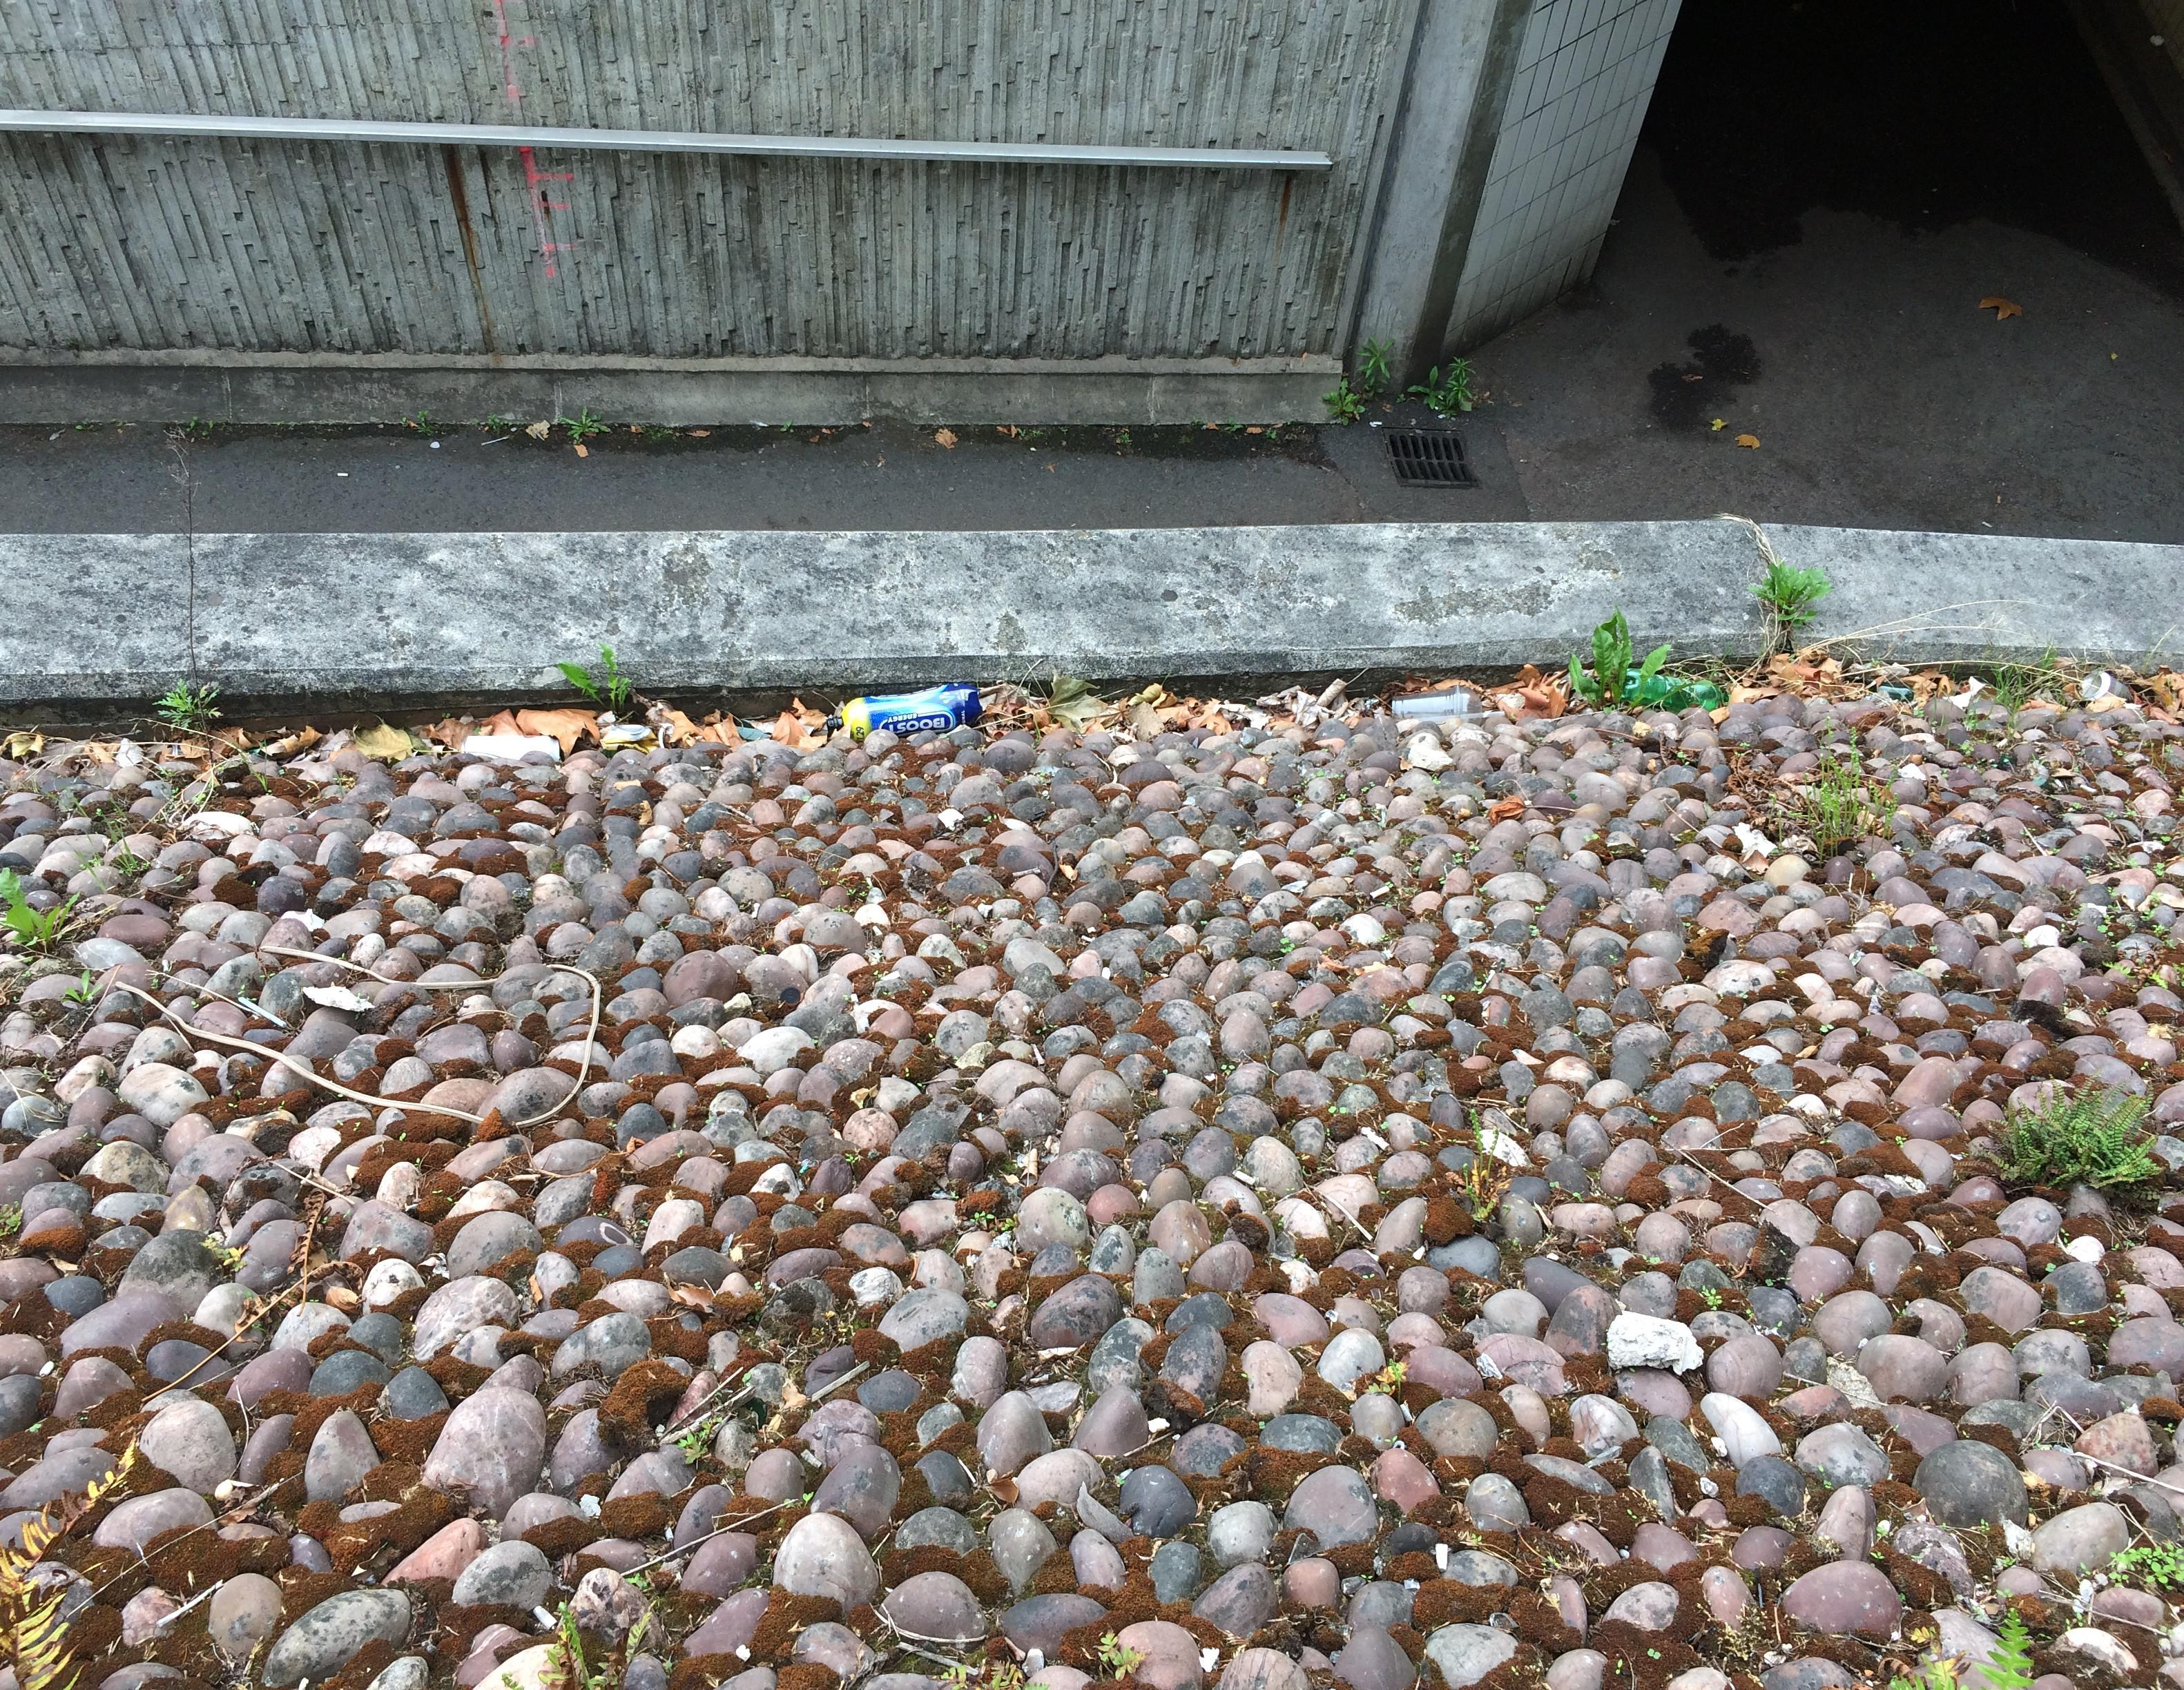Trash: (815, 694, 982, 746), (1599, 1313, 1702, 1371), (1384, 689, 1487, 737)
